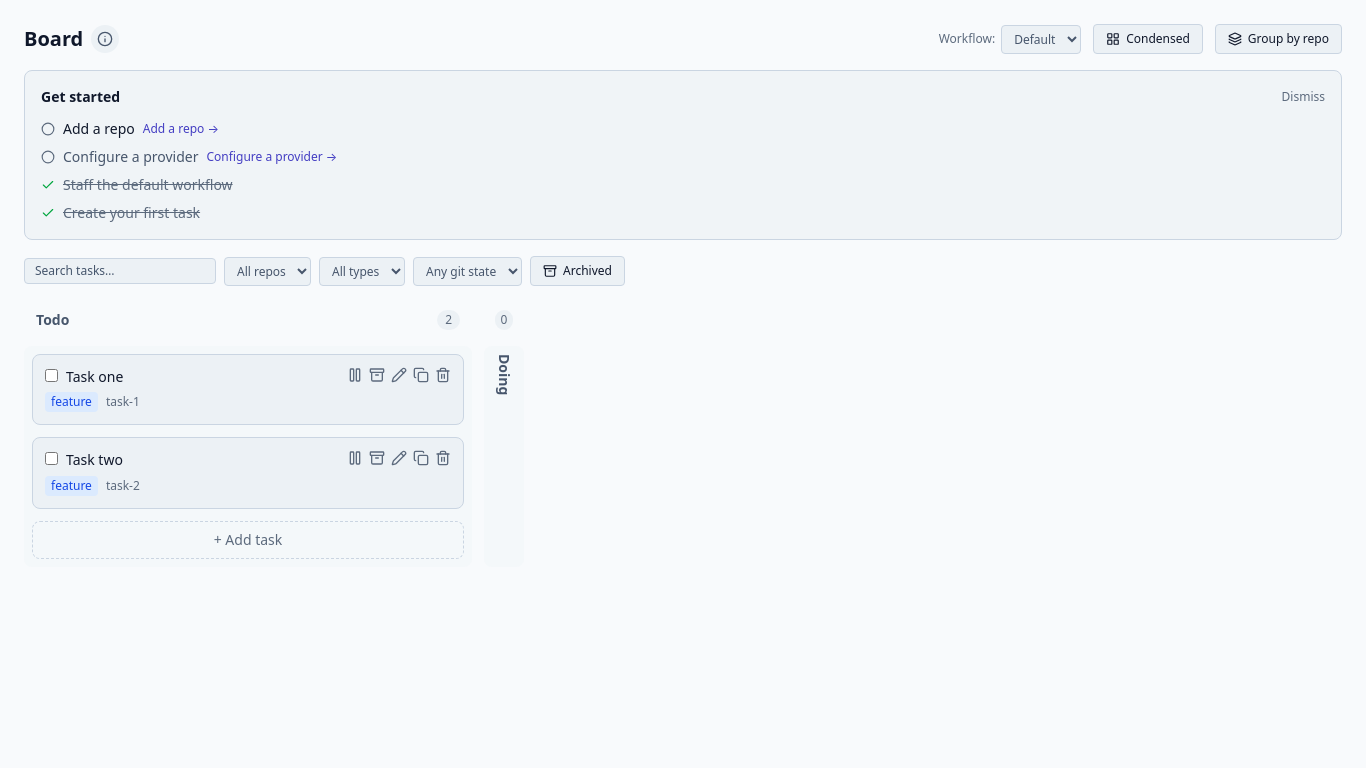
BoardPage bulk actions › shows the failure banner and keeps the selection when a bulk result has a failure
This screenshot has width=1366, height=768.
Click the checkbox titled "Select for bulk actions" next to "Task one".
click(52, 376)  # box [45,369,58,382]
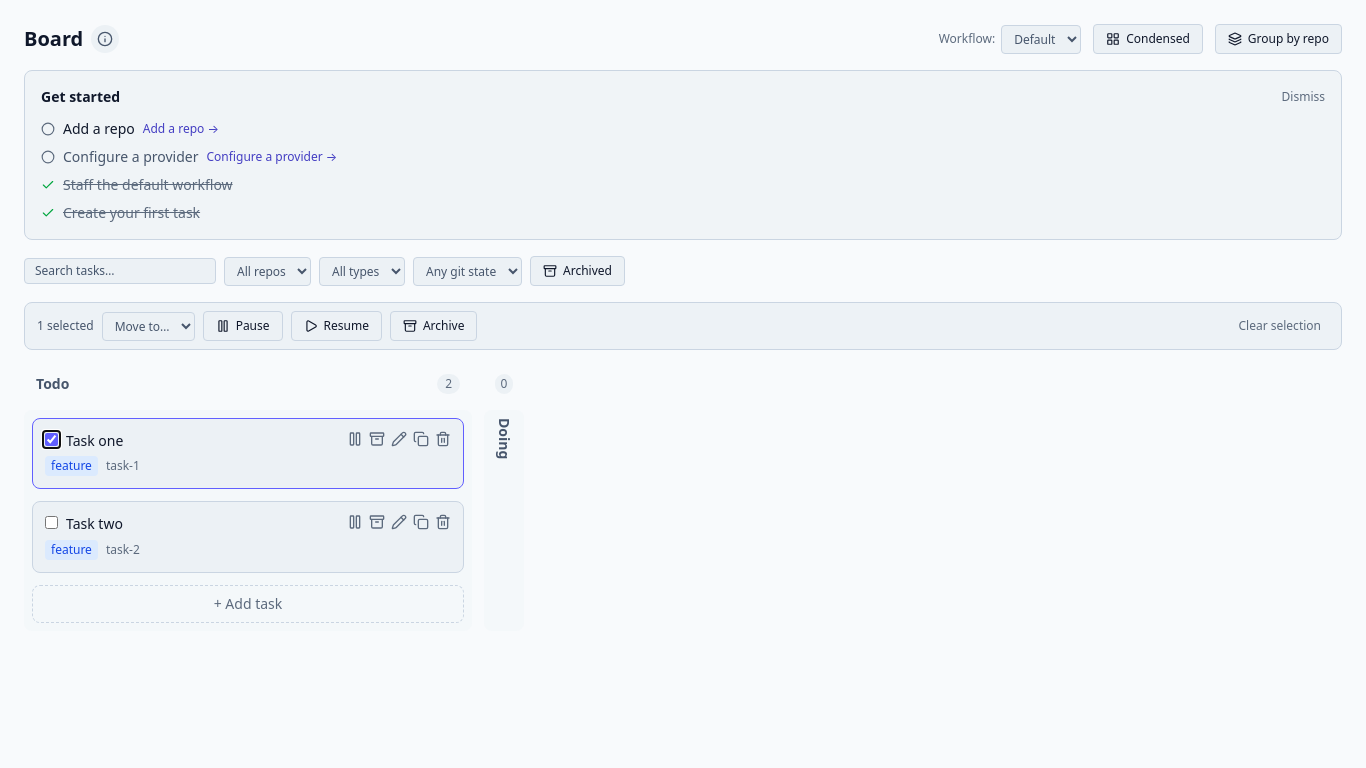
Click the checkbox titled "Select for bulk actions" next to "Task two".
click(52, 523)  # box [45,516,58,529]
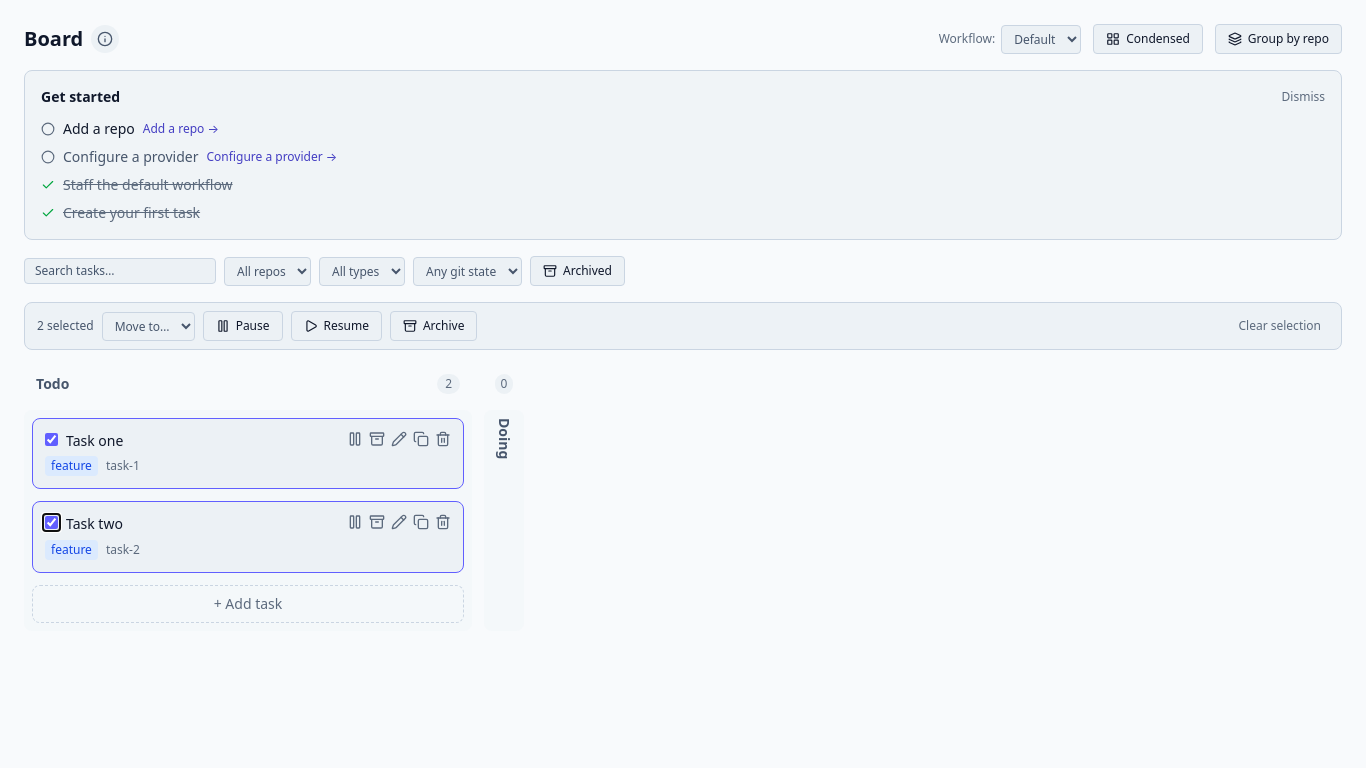
Click the button "Pause".
click(243, 326)  # box [203,311,282,341]
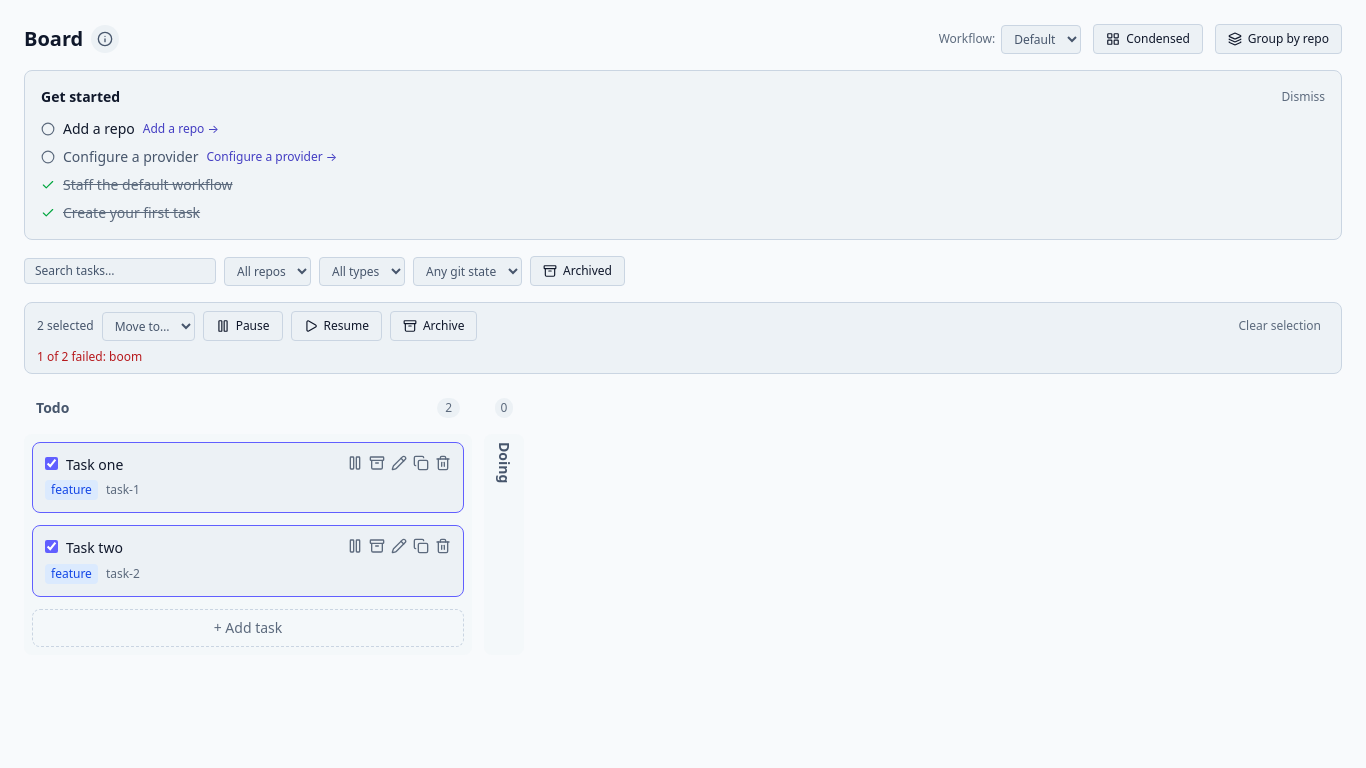
expect the text "2 selected" is shown: met, box [37,318,94,334]
expect the text "1 of 2 failed: boom" is shown: met, box [37,348,142,365]
